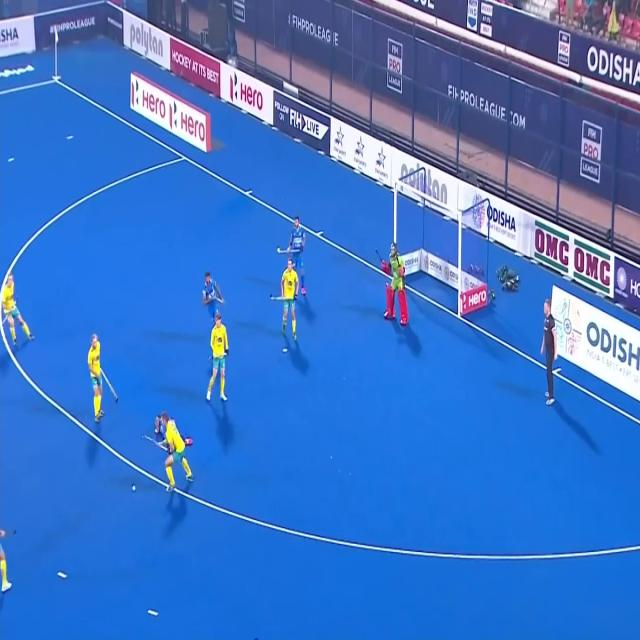ball: (130, 483, 137, 493)
